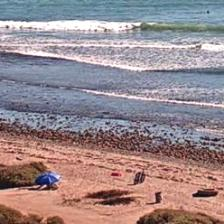surfer: (198, 11, 210, 14)
